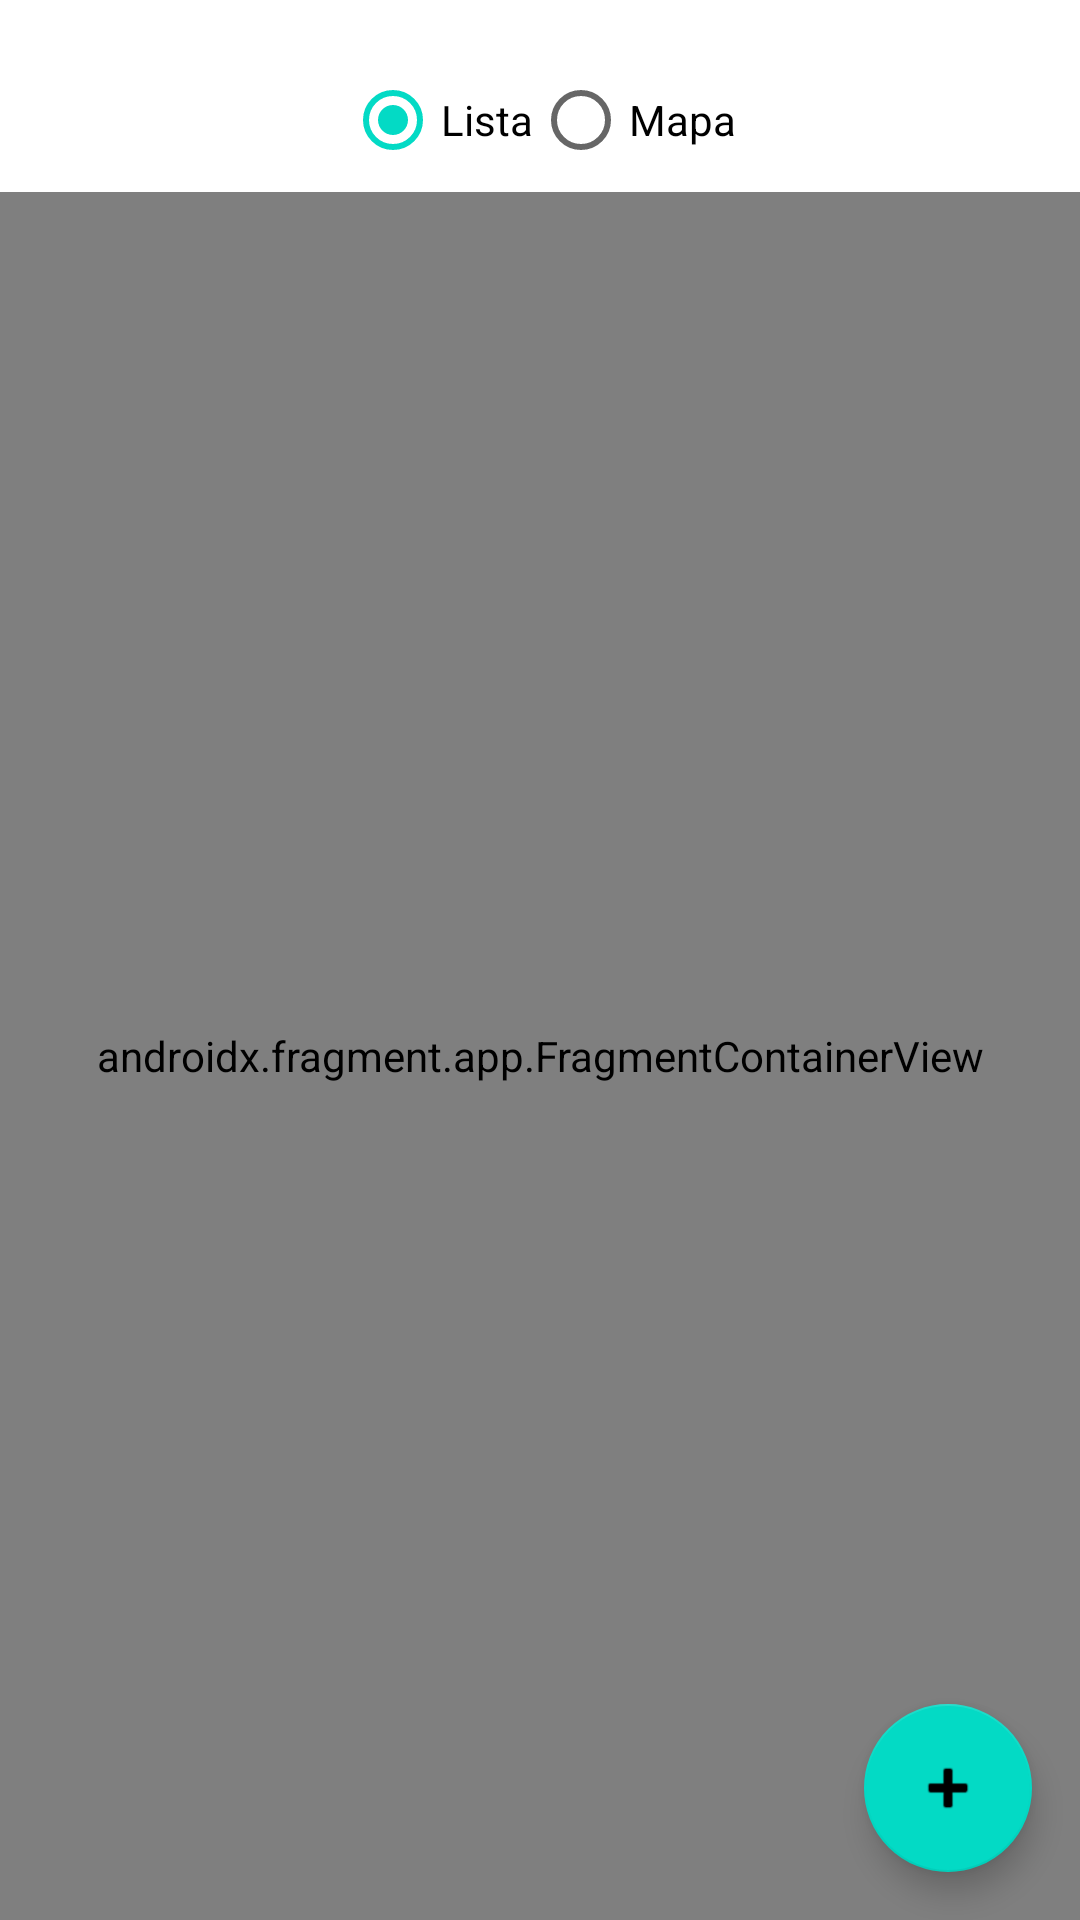

Screen size 1080 × 1920. Icon name, then its center in pixels as point (x, y):
Añadir lugar: point (948, 1788)
